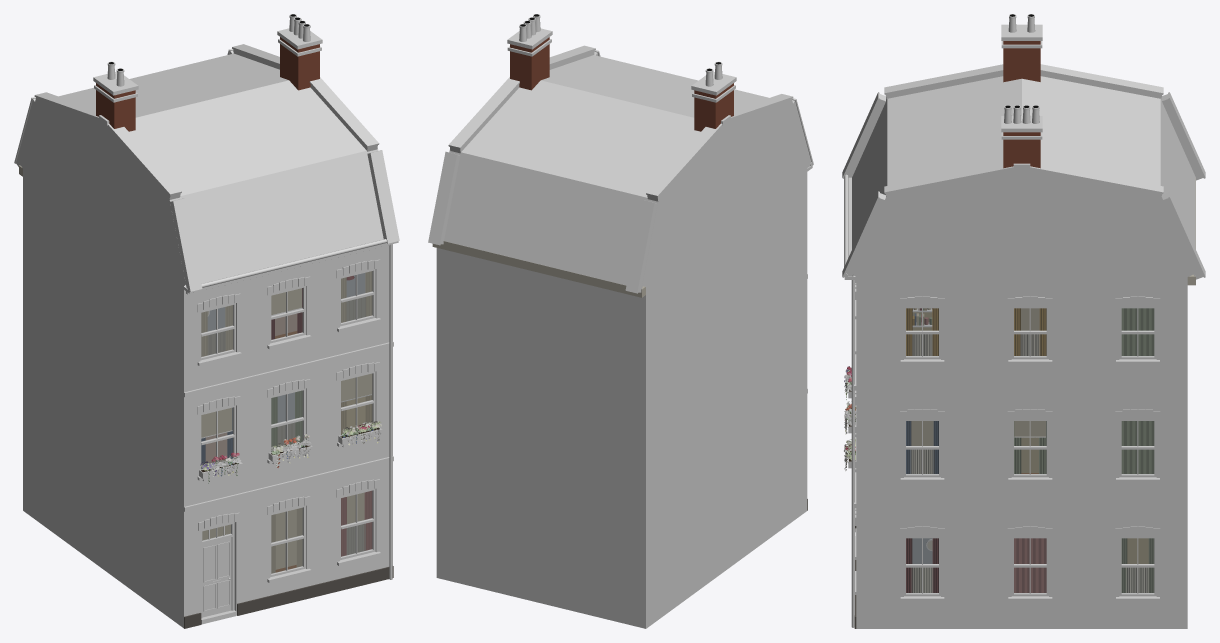
Rendered from StraightEnd_Outer3.glb.
The picture shows the model from 3 angles, left to right: view 1: azimuth 30°, elevation 25°; view 2: azimuth 150°, elevation 25°; view 3: azimuth 270°, elevation 25°; orthographic projection. The views are drawn at different scales.
Visible parts, largest first — view 1: StraightEnd_Outer3; view 2: StraightEnd_Outer3; view 3: StraightEnd_Outer3.
Part boxes in pixels (x1,y1,x2,y2): StraightEnd_Outer3: (14,14,399,628); StraightEnd_Outer3: (428,14,813,628); StraightEnd_Outer3: (842,14,1205,628).
Size of the model in its own units: 6.1 by 13.74 by 8.77.
